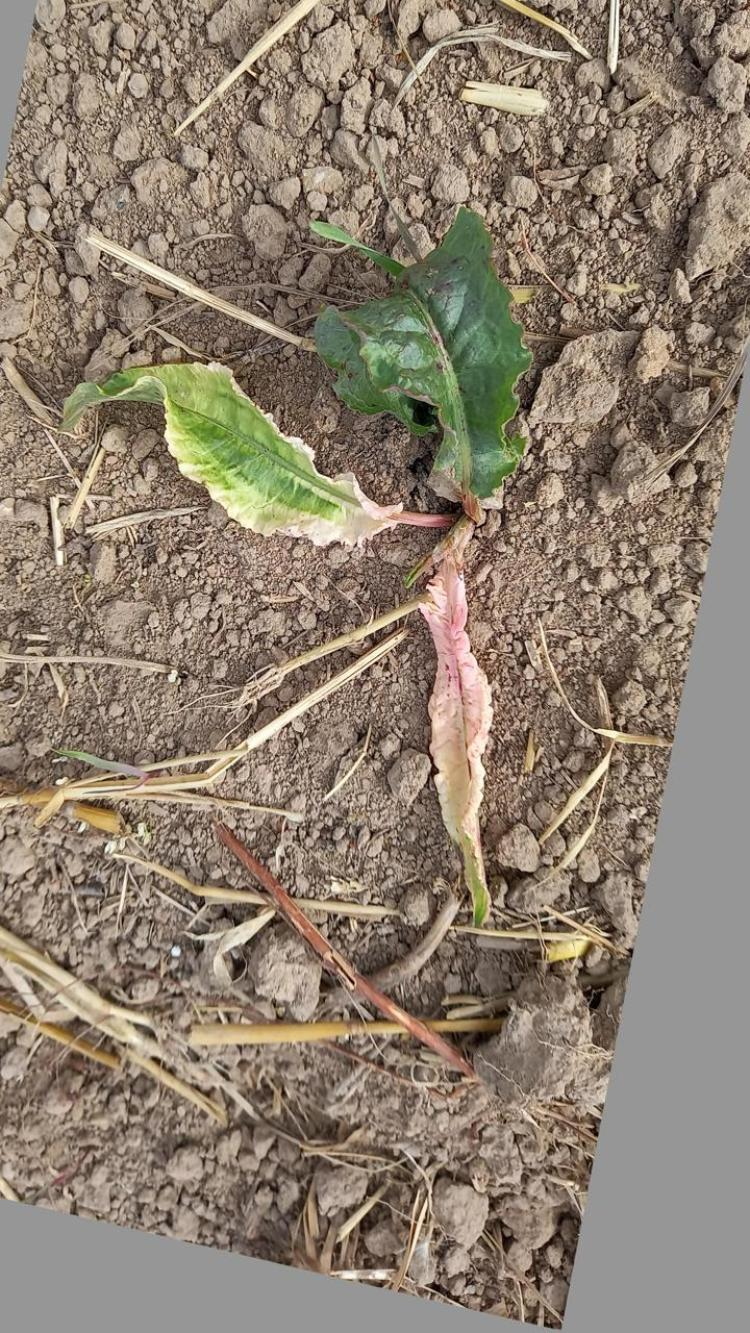zhavel: (58, 198, 540, 941)
